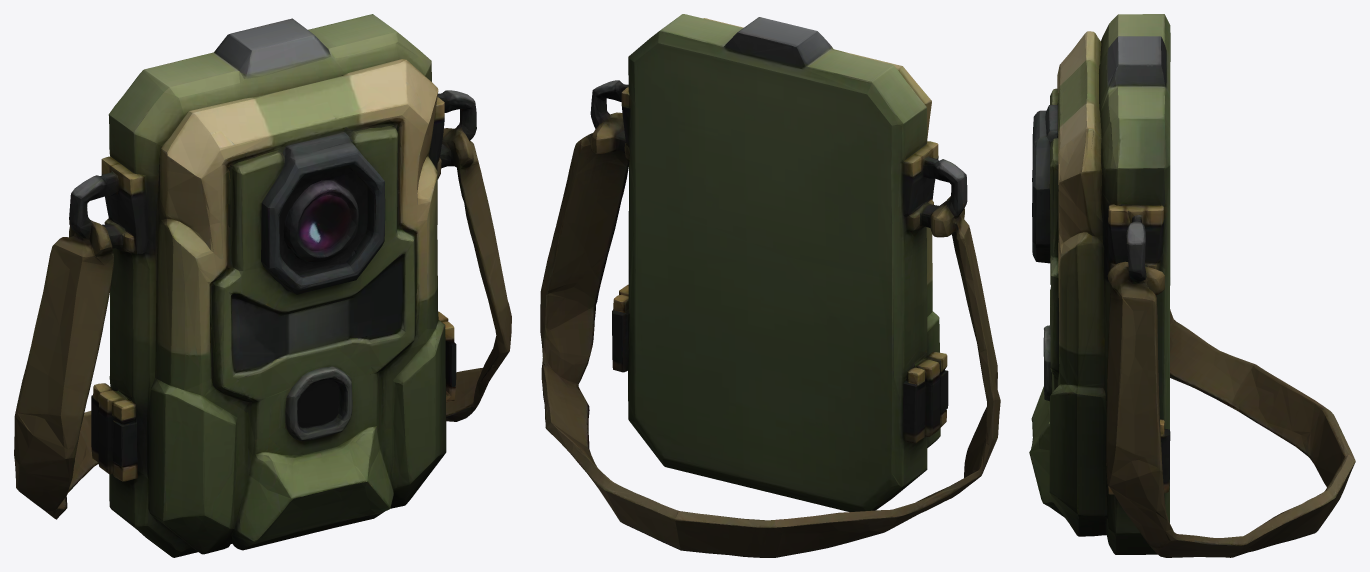
The model's file is camera.glb.
3 renders of one model, left to right at view 1: azimuth 30°, elevation 25°; view 2: azimuth 150°, elevation 25°; view 3: azimuth 270°, elevation 25°, orthographic. The views are drawn at different scales.
Parts seen in each view (by area): view 1: world; view 2: world; view 3: world.
Boxes of the visible parts, left/top/right/bottom form: world: left=14, top=14, right=511, bottom=557; world: left=540, top=14, right=1000, bottom=557; world: left=1029, top=14, right=1355, bottom=557.
Size of the model in its own units: 0.9988 by 0.9495 by 0.6172.
1 material, 1 textured.
